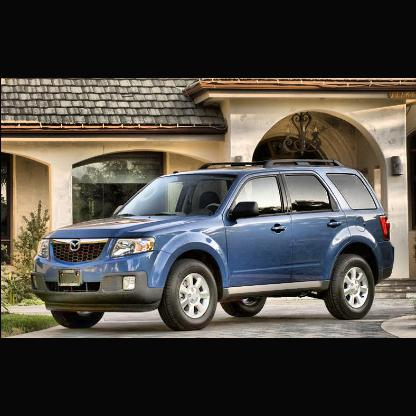Mazda Tribute SUV 2011: (30, 159, 397, 330)
